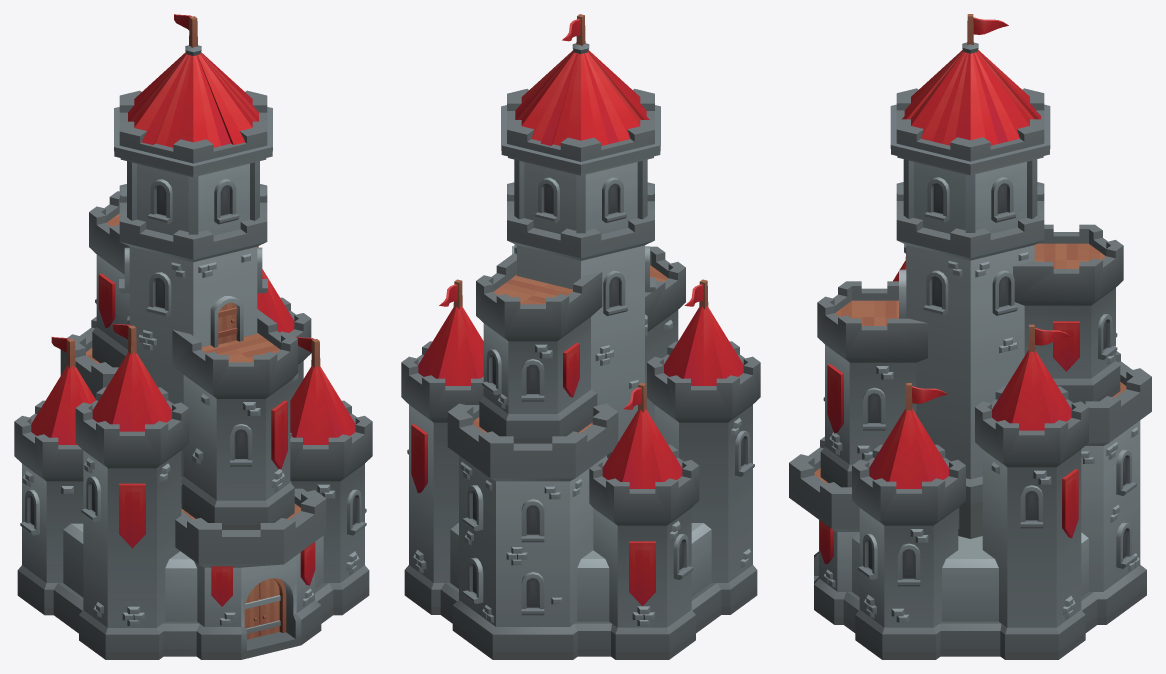
Rendered from castle_red.glb.
3 renders of one model, left to right at view 1: azimuth 30°, elevation 25°; view 2: azimuth 150°, elevation 25°; view 3: azimuth 270°, elevation 25°, orthographic.
Parts seen in each view (by area): view 1: building_castle_red; view 2: building_castle_red; view 3: building_castle_red.
Boxes of the visible parts, box(x1,y1,x2,y2) form: building_castle_red: box(14, 14, 372, 659); building_castle_red: box(401, 14, 760, 659); building_castle_red: box(789, 14, 1151, 659).
Bounding box in the file's own units: 1.98 × 3.98 × 2.26.
Materials: 1 (1 with a texture image).
